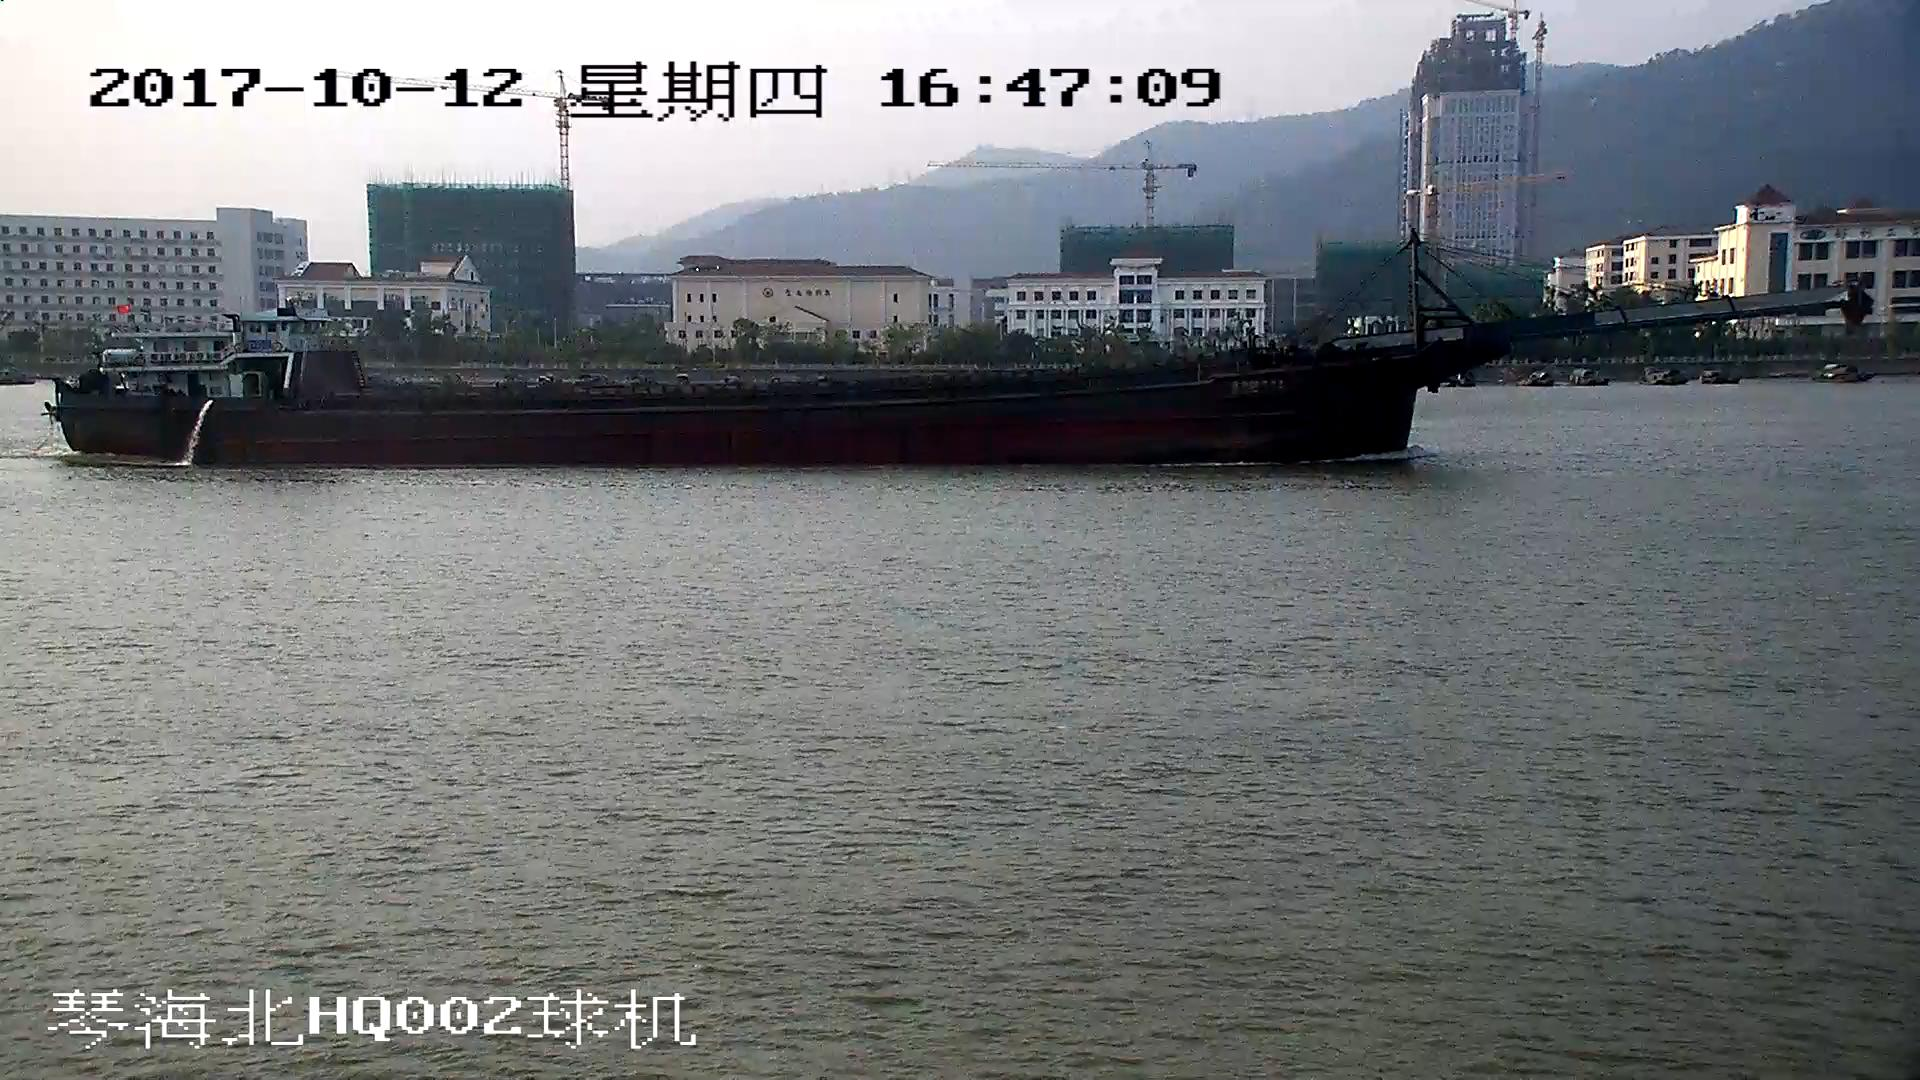bulk cargo carrier: (54, 224, 1851, 464)
